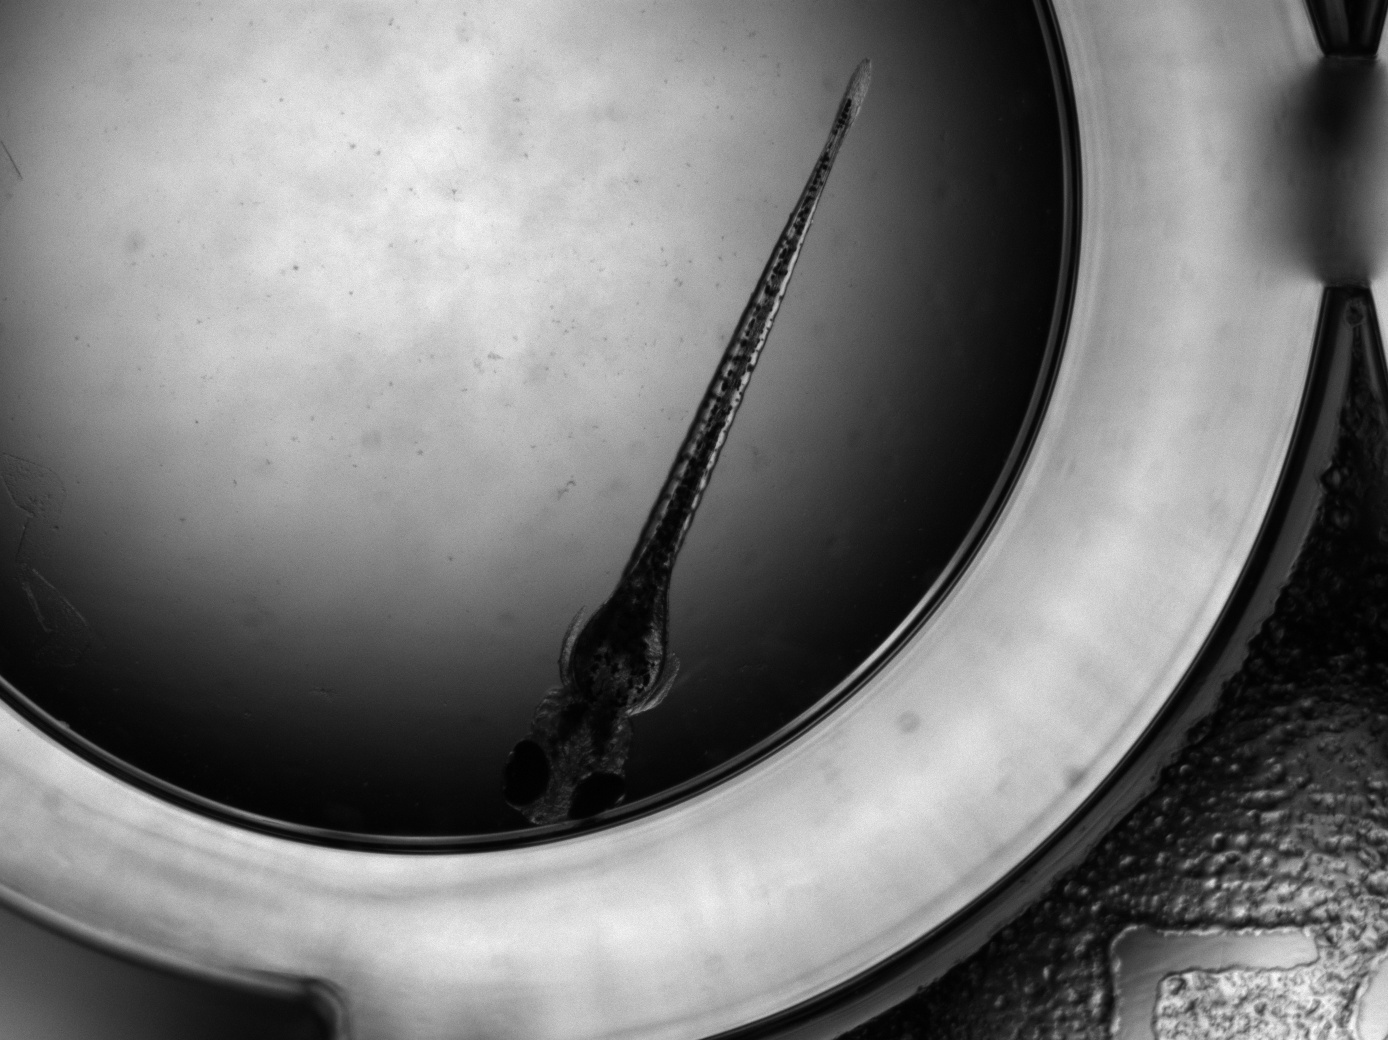embryo: (501, 55, 870, 826)
eye: (501, 740, 551, 807), (566, 773, 626, 819)
yolksac: (570, 607, 664, 713)
